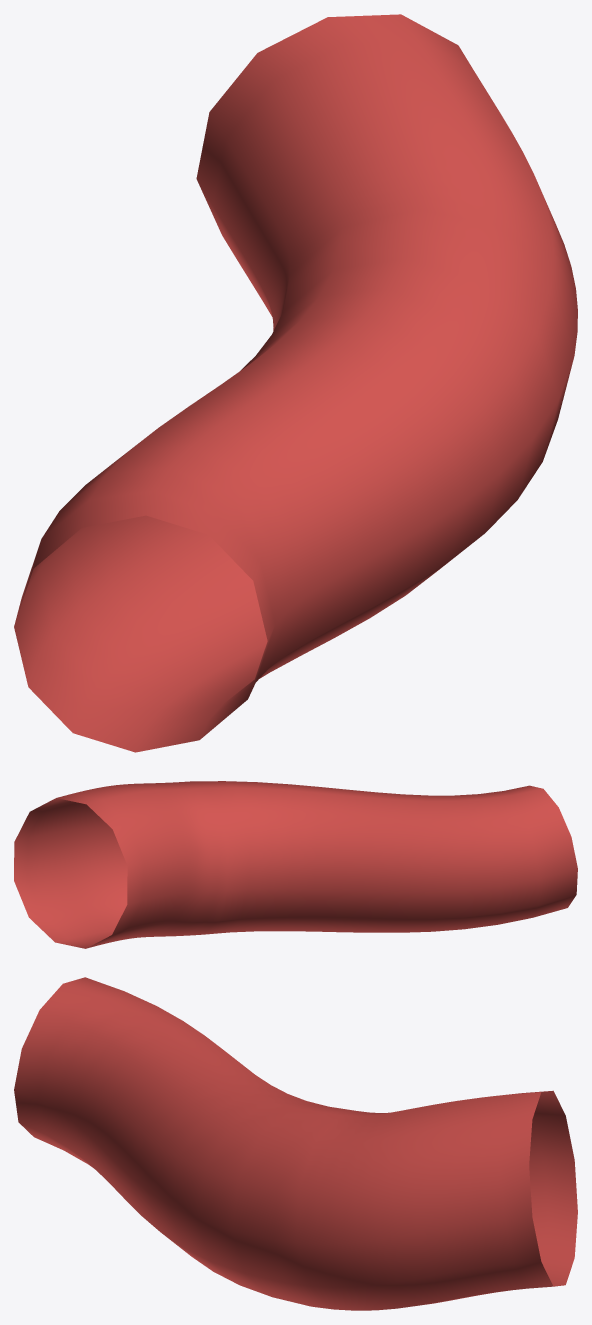
The picture shows the model from 3 angles, top to bottom: view 1: azimuth 30°, elevation 25°; view 2: azimuth 150°, elevation 25°; view 3: azimuth 270°, elevation 25°; orthographic projection. The views are drawn at different scales.
Visible parts, largest first — view 1: 头臂干; view 2: 头臂干; view 3: 头臂干.
Boxes of the visible parts, x1=… form: 头臂干: x1=14, y1=14, x2=577, y2=752; 头臂干: x1=14, y1=781, x2=577, y2=948; 头臂干: x1=14, y1=977, x2=577, y2=1310.
Size of the model in its own units: 0.0531 by 0.0228 by 0.0494.
